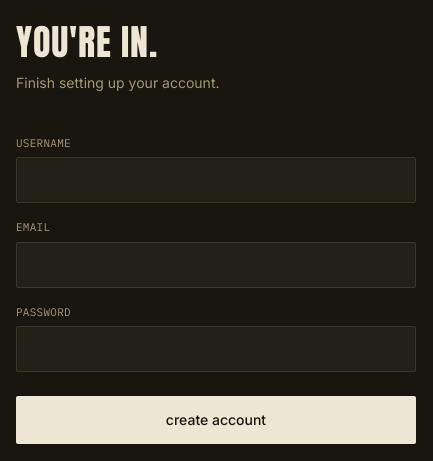
Test: RegisterForm mid-flow invite invalidation › shows a clear explanation and offers no account when the invite was redeemed by someone else first
Step 1. Type "newuser" into the field labelled "username" → (216, 180), box [16,157,416,203]
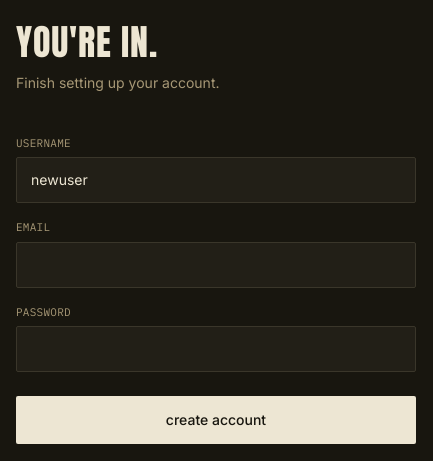
Step 2. Type "new@example.com" into the field labelled "email" → (216, 265), box [16,242,416,288]
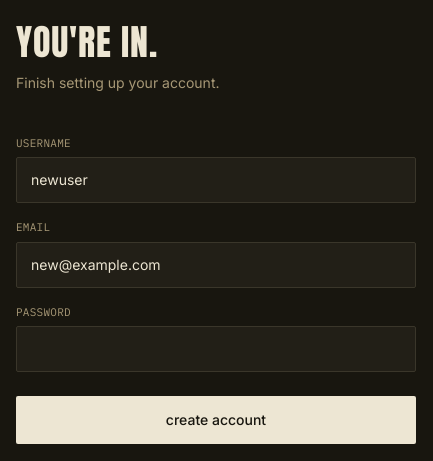
Step 3. Type "hunter22" into the password field labelled "password" → (216, 349), box [16,326,416,372]
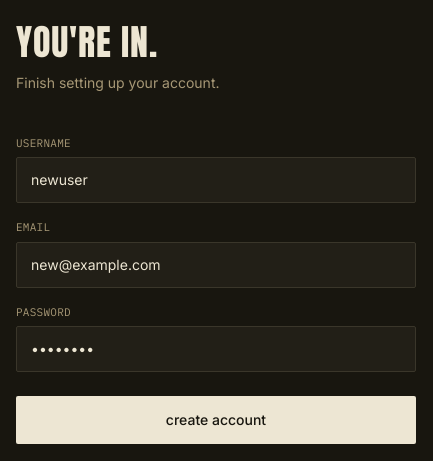
Step 4. Click the button "create account" → (216, 420), box [16,396,416,444]
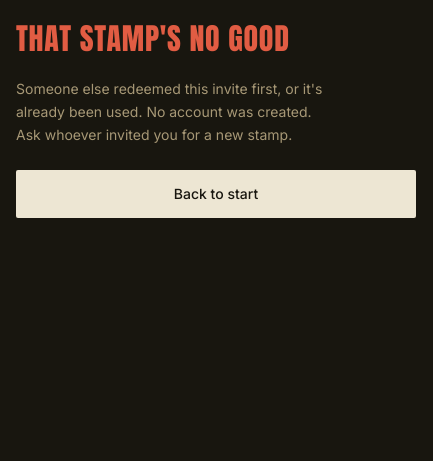
Expected: the heading "THAT STAMP'S NO GOOD" is shown, [16,16,290,61]
Expected: the text "Someone else redeemed this invite first" is shown, [16,80,322,142]
Expected: the label labelled "username" is gone
